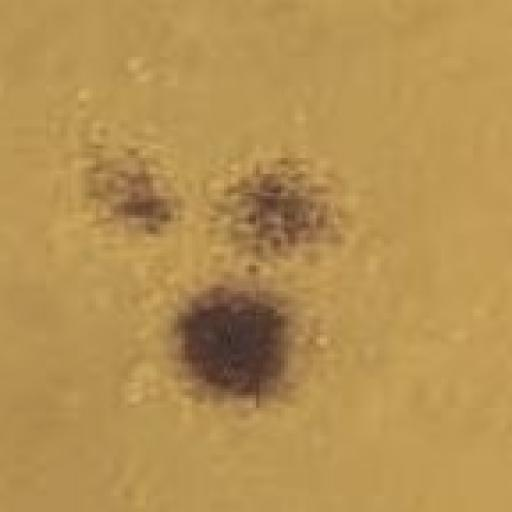BFU-E: (174, 284, 288, 398), (217, 158, 334, 256), (82, 149, 174, 234)
